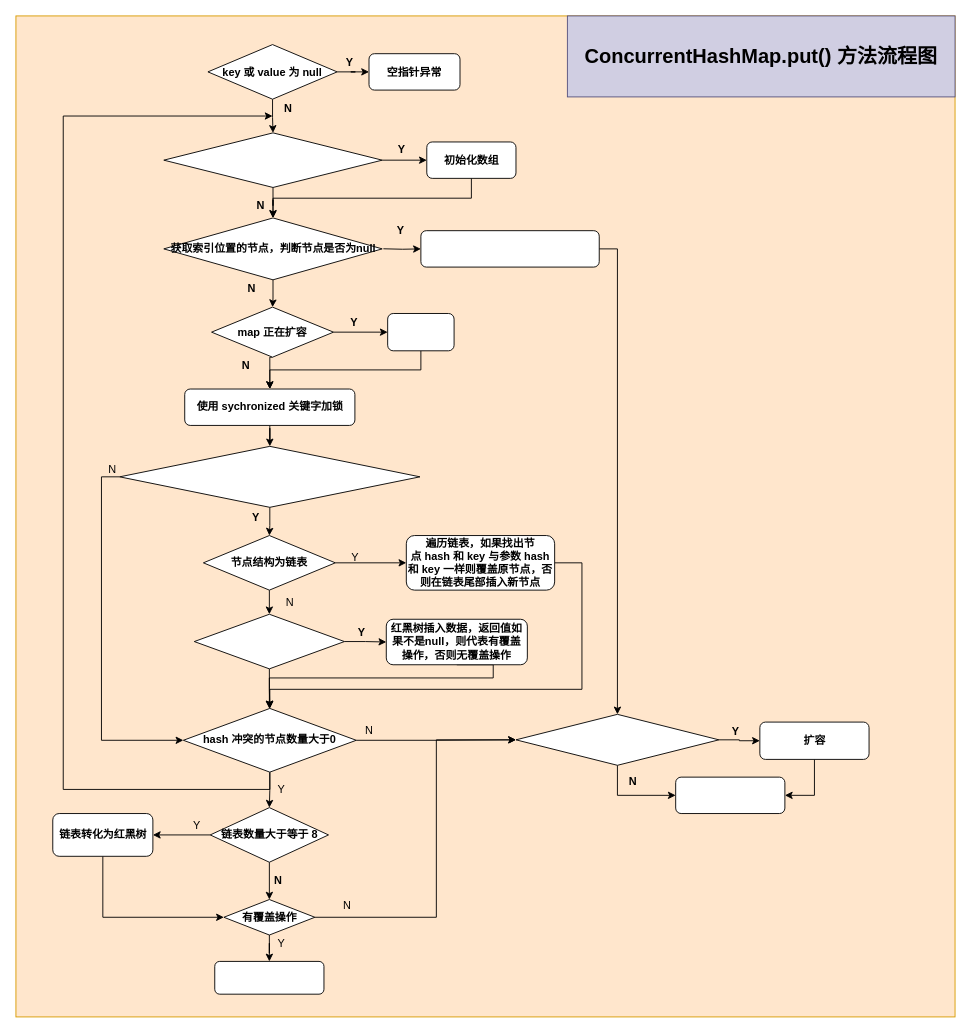
Some shapes in this 971 by 1033 pixel diagram are drawn without their labels. The shapes that lost their labels are listed below. From the top down, each one's centre as x and y in pixels, then its label:
At (272,159): "数组没被初始化或数组长度等于0".
At (509,248): "封装成节点，CAS 操作插到数组上".
At (420,332): "协助扩容".
At (269,476): "判断索引位置节点与以上操作获取的节点是否一致".
At (268,641): "节点结构为树".
At (617,739): "检查当前容量是否需要进行扩容".
At (730,795): "返回null".
At (269,977): "返回被覆盖的值".
